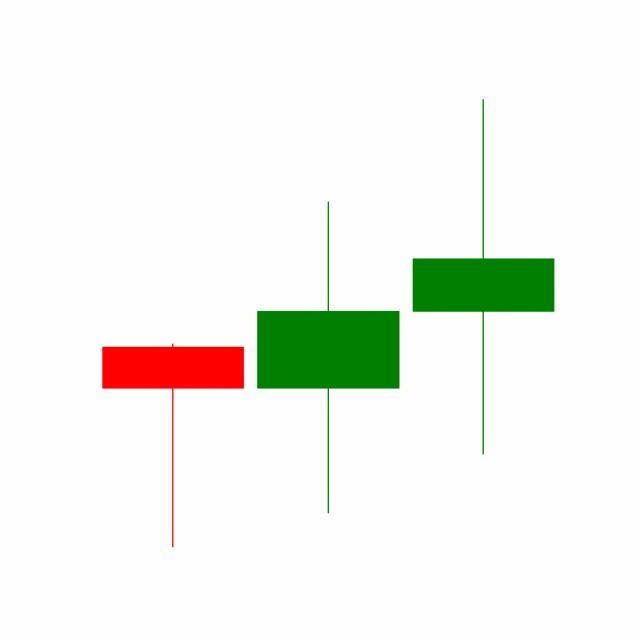Spinning Top: (250, 199, 407, 517)
